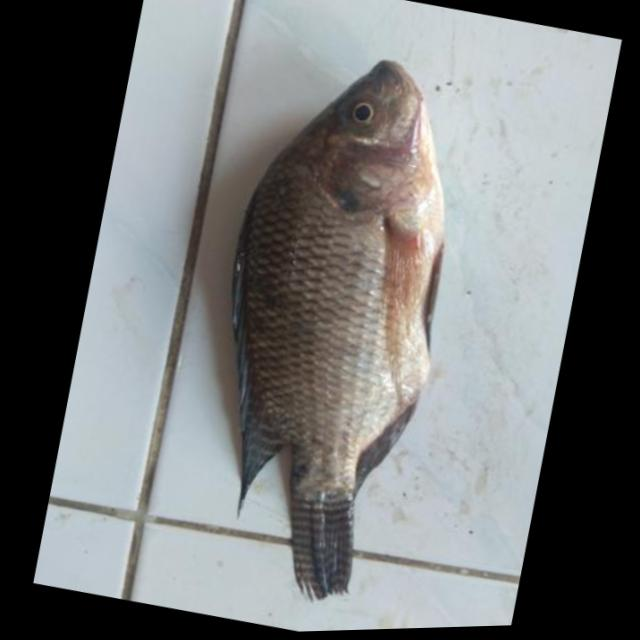Tilapia: (160, 27, 497, 619)
